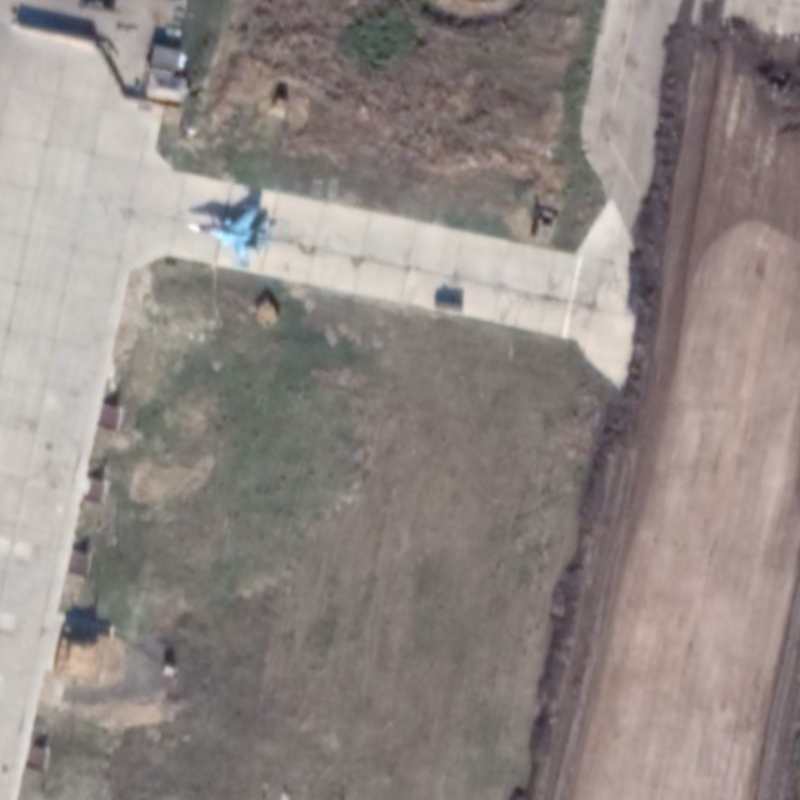A19: (186, 203, 276, 271)
